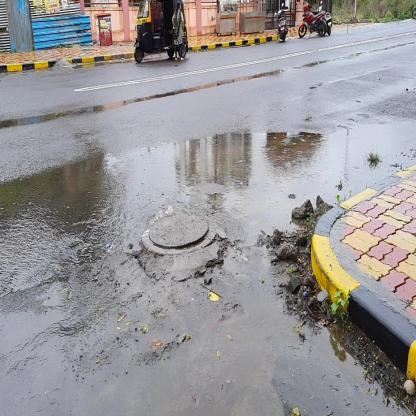drainage overflow-repair-: (118, 175, 216, 253)
